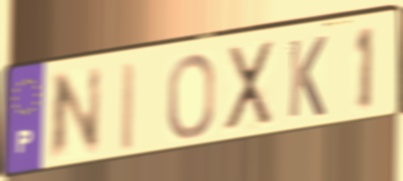1: (353, 22, 376, 114)
I: (116, 58, 140, 155)
K: (286, 33, 329, 122)
N: (45, 63, 105, 167)
O: (165, 52, 217, 142)
X: (222, 37, 276, 133)
